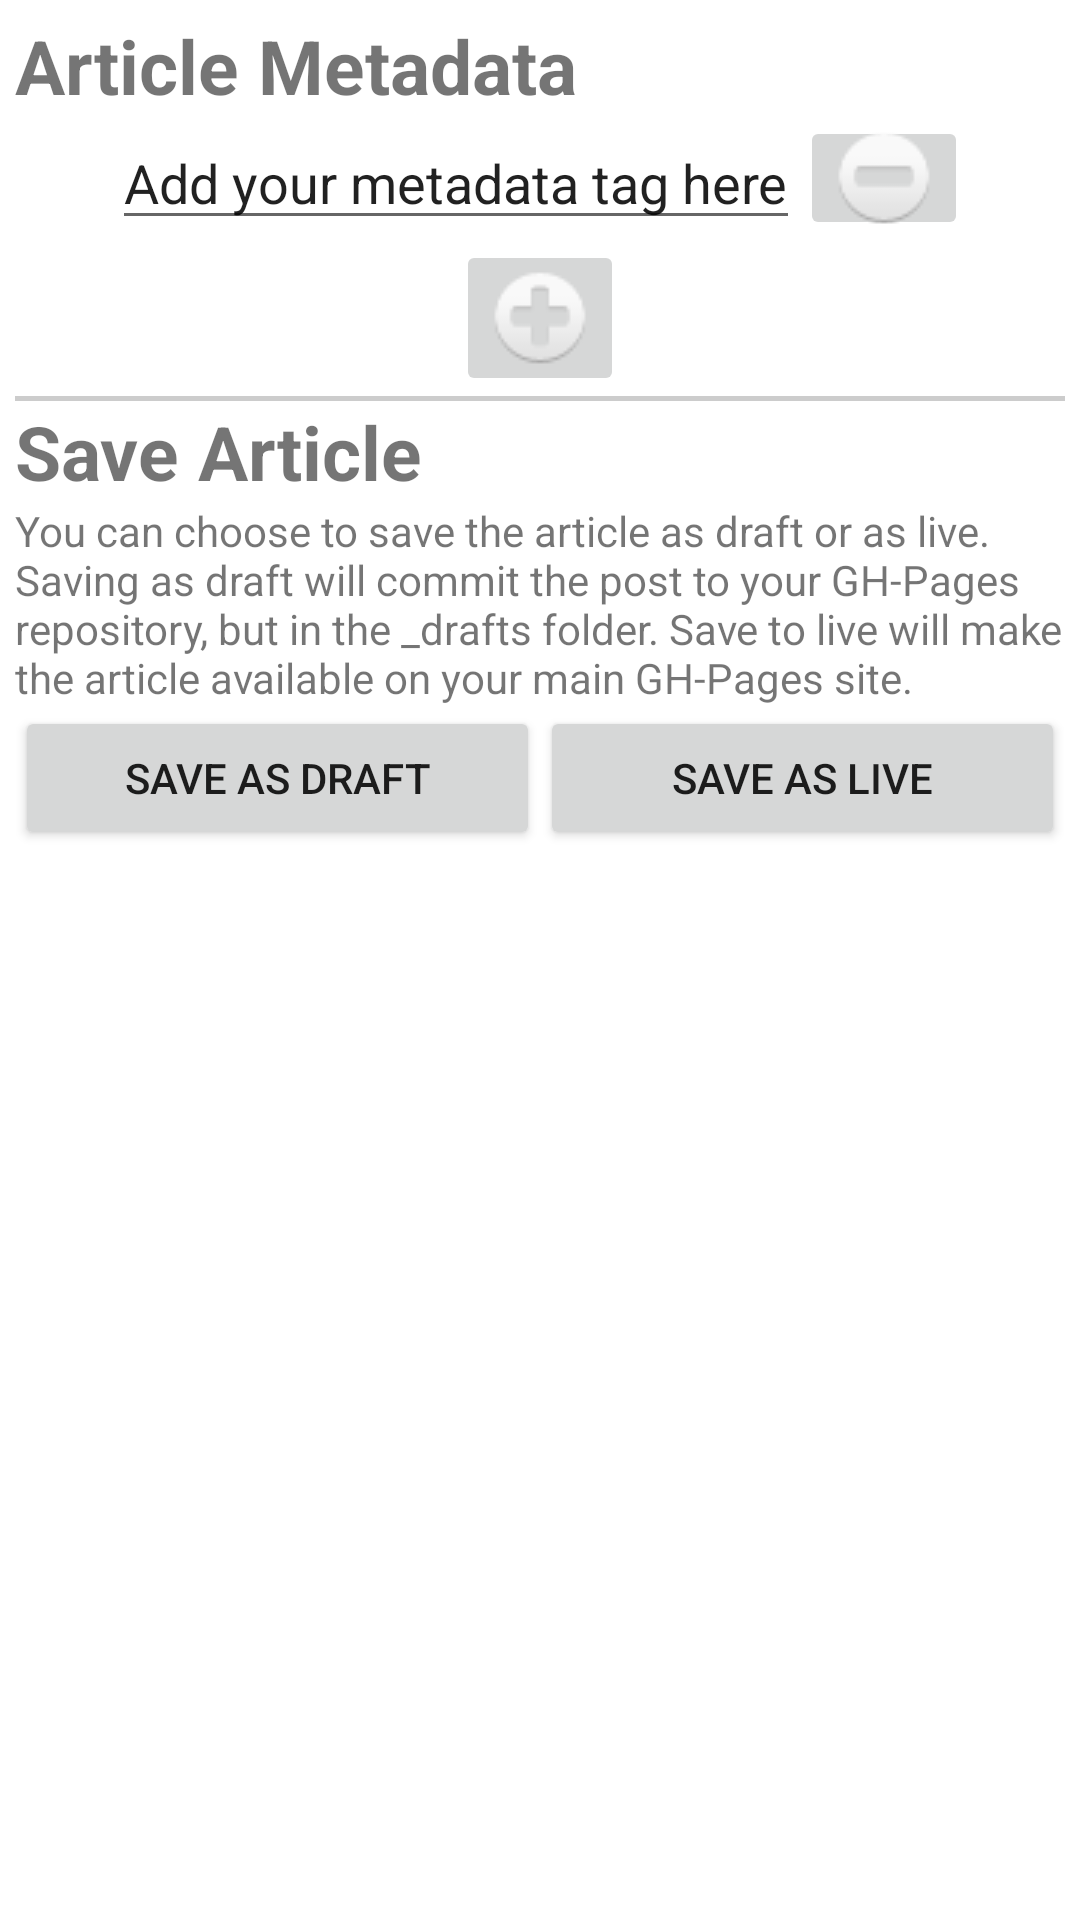

Where to tap for icons on this 1080 × 1920 app screen, as [x,y]:
delete: [884,179]
